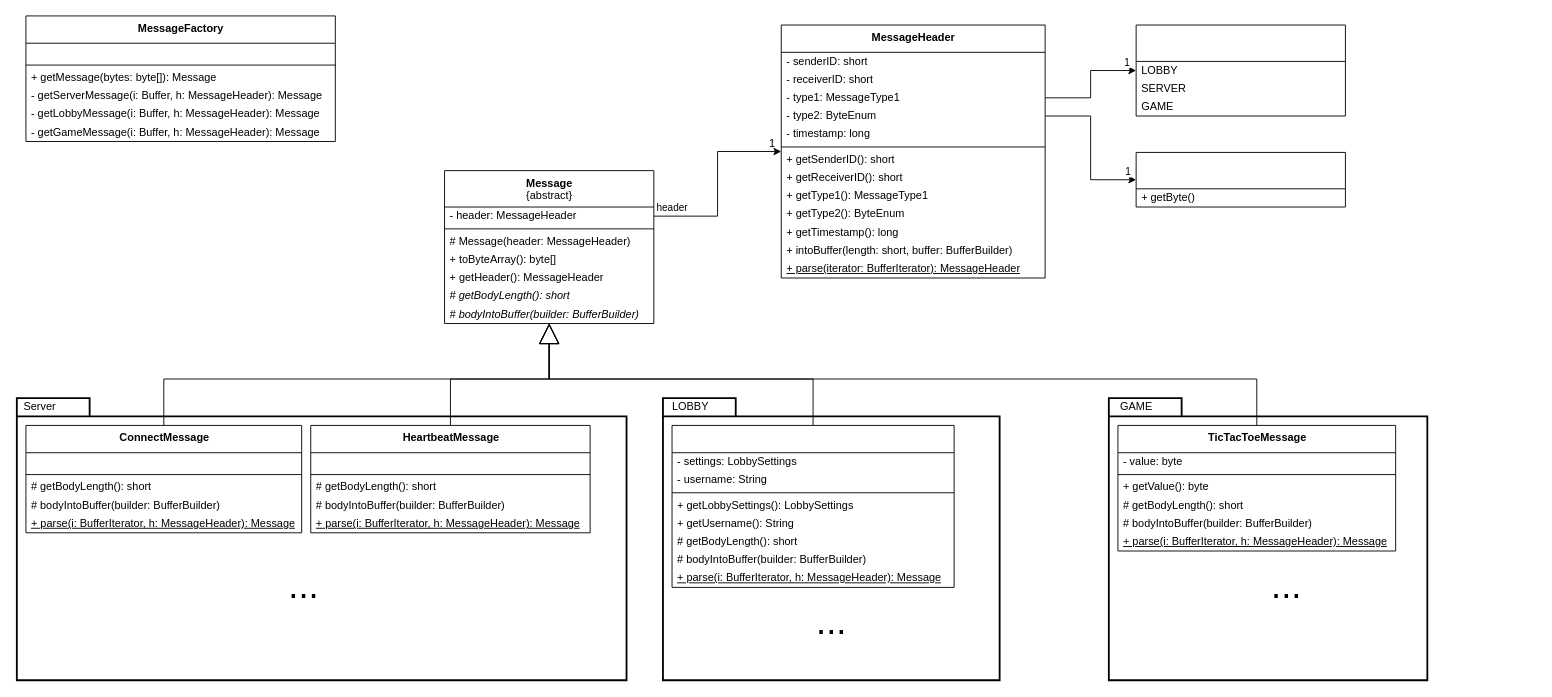
The diagram is 1552 pixels wide and 697 high, and some of its shapes have lost their labels. The box of each missing label's shape, as (x1, y1, x2, y2) in pixels:
<<enum>> MessageType1: (1135, 24, 1345, 116)
<<Interface>> ByteEnum: (1135, 152, 1345, 207)
CreateLobbyMessage: (671, 425, 954, 587)
